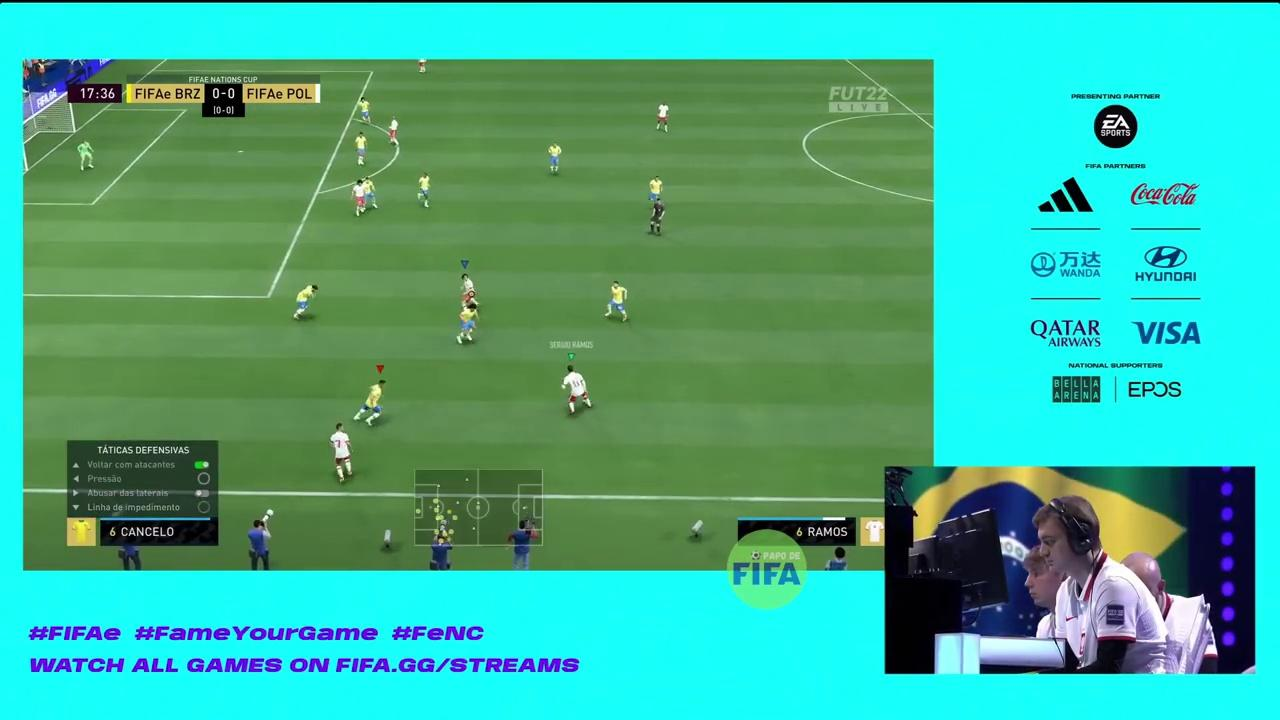scoreboard: (127, 83, 327, 103)
timestamp: (65, 84, 126, 103)
